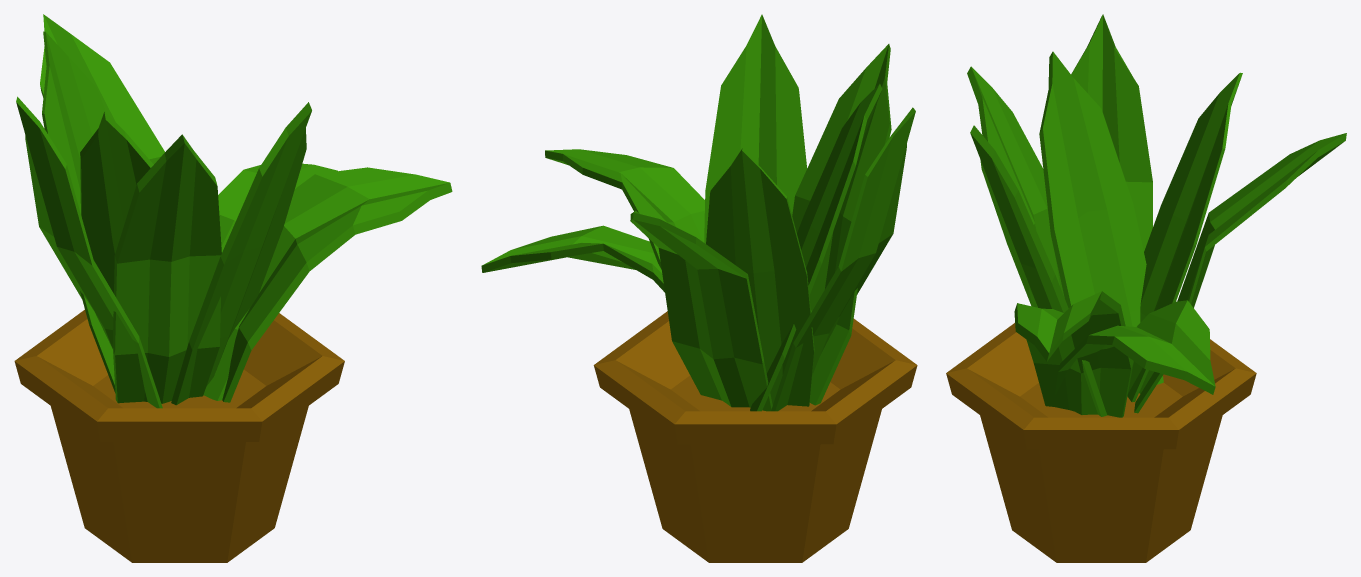
Rendered from GreenPlantPot4.fbx.
3 views of the same model, side by side, from view 1: azimuth 30°, elevation 25°; view 2: azimuth 150°, elevation 25°; view 3: azimuth 270°, elevation 25° (orthographic). The views are drawn at different scales.
Parts seen in each view (by area): view 1: Pot; view 2: Pot; view 3: Pot.
Part boxes in pixels (x1,y1,x2,y2): Pot: (14, 14, 452, 562); Pot: (481, 14, 917, 562); Pot: (946, 14, 1346, 562).
Size of the model in its own units: 495 by 546 by 449.
